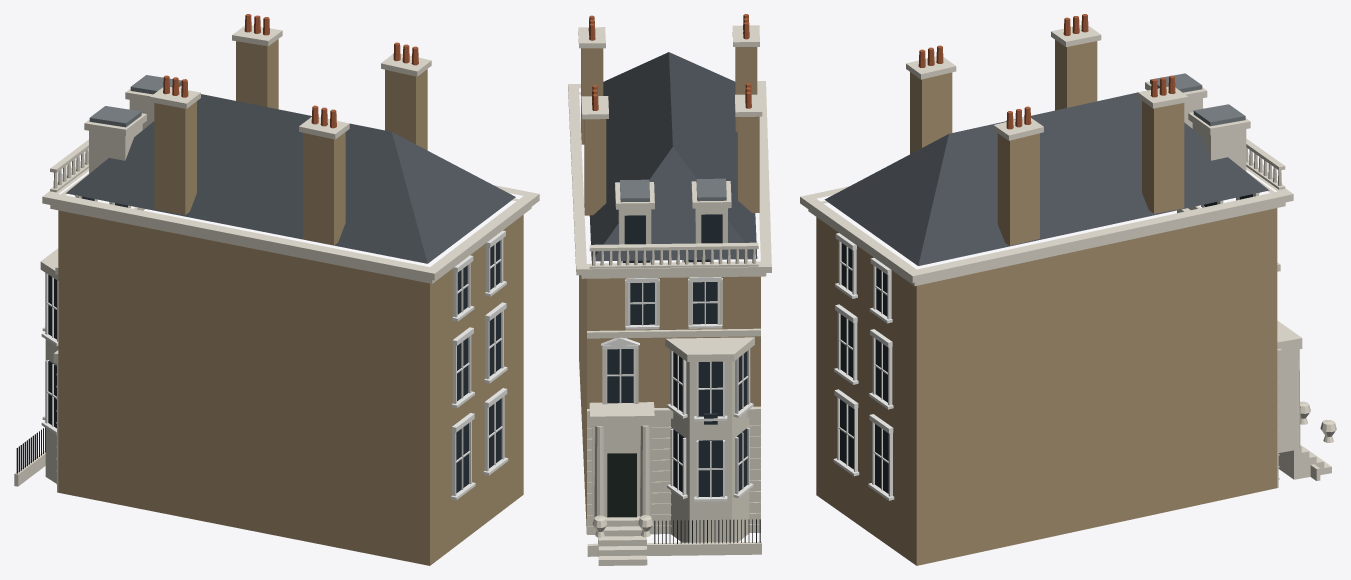
Rendered from linley_sambourne_house.glb.
3 views of the same model, side by side, from view 1: azimuth 30°, elevation 25°; view 2: azimuth 150°, elevation 25°; view 3: azimuth 270°, elevation 25° (orthographic). The views are drawn at different scales.
Bounding box in the file's own units: 14.38 × 16.6 × 18.22.
